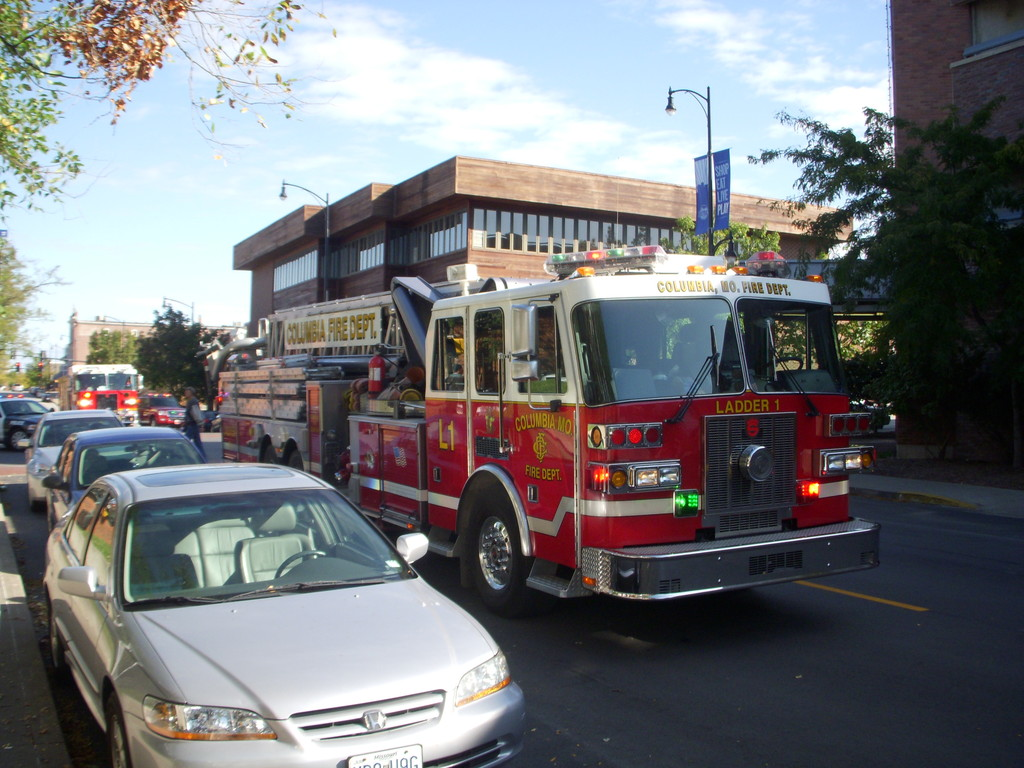car: (31, 448, 540, 768), (44, 407, 222, 543), (16, 396, 127, 499)
truck: (209, 221, 879, 629), (54, 347, 160, 428)
